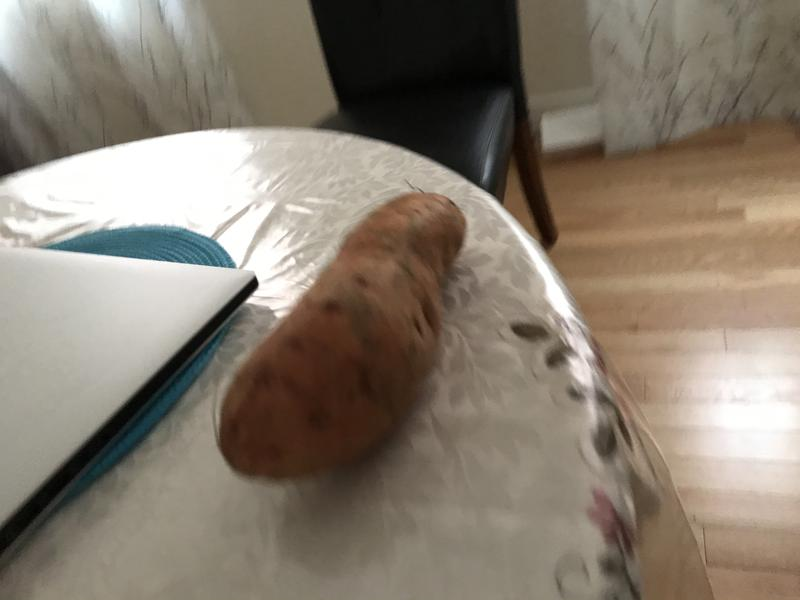sweet_potato: (212, 185, 469, 494)
